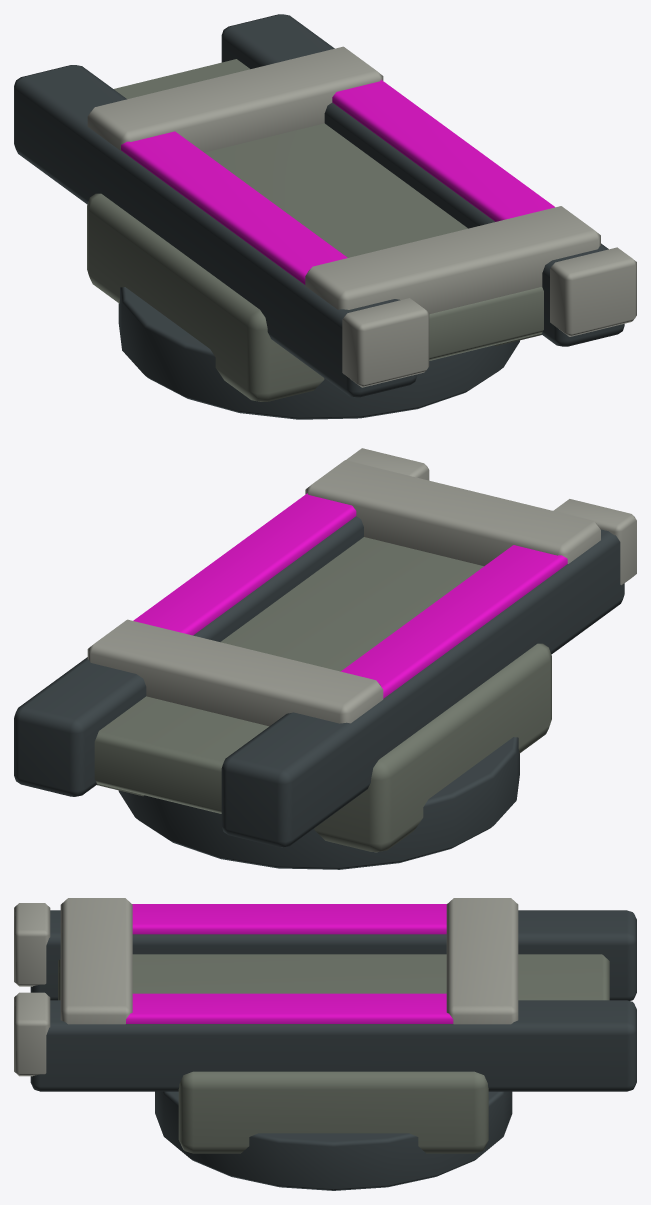
Rendered from military-truck-tomahawk.glb.
3 views of the same model, one above another, from view 1: azimuth 30°, elevation 25°; view 2: azimuth 150°, elevation 25°; view 3: azimuth 270°, elevation 25° (orthographic). The views are drawn at different scales.
Parts seen in each view (by area): view 1: TurretShell; view 2: TurretShell; view 3: TurretShell.
Part boxes in pixels (bbox=[...]): TurretShell: bbox=[14, 14, 636, 419]; TurretShell: bbox=[14, 448, 636, 869]; TurretShell: bbox=[14, 898, 636, 1190].
Bounding box in the file's own units: 0.68 × 0.3475 × 1.19.
